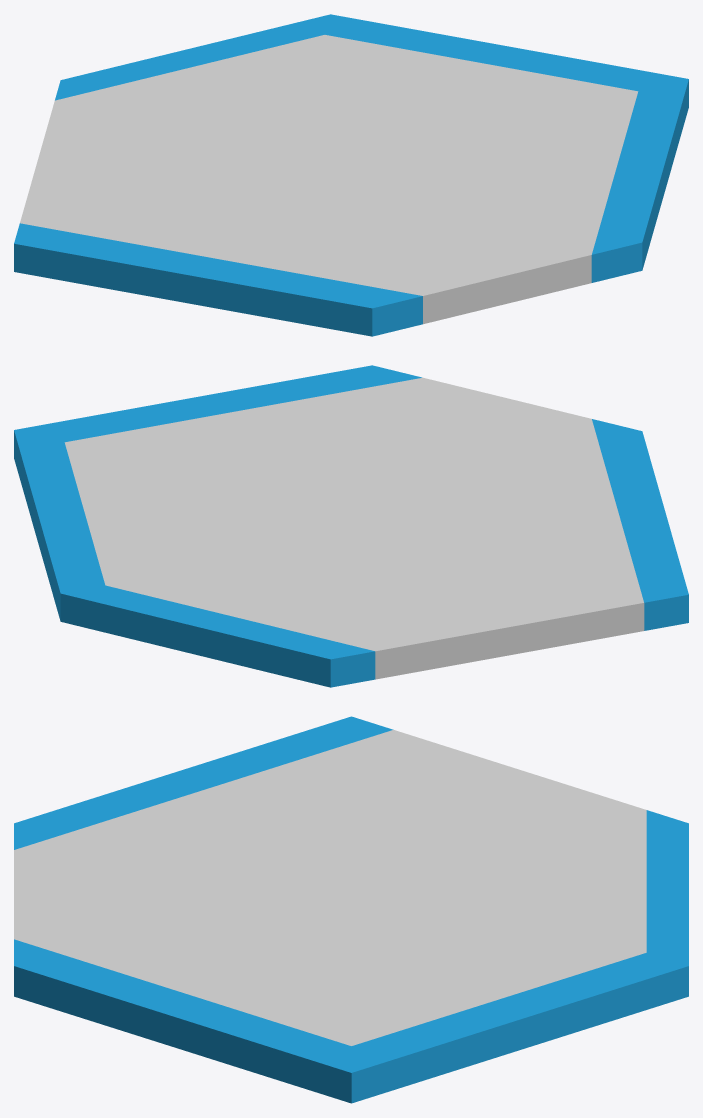
3 views of the same model, one above another, from view 1: azimuth 30°, elevation 25°; view 2: azimuth 150°, elevation 25°; view 3: azimuth 270°, elevation 25° (orthographic). The views are drawn at different scales.
Parts seen in each view (by area): view 1: Hexagon, SW, SE, NE, N; view 2: Hexagon, N, SW, NE, SE; view 3: Hexagon, SE, NE, SW, N.
Part boxes in pixels (x1,y1,x2,y2): Hexagon: (20,35,638,324); SW: (14,223,422,336); SE: (591,79,688,282); NE: (325,14,687,91); N: (55,14,330,100); Hexagon: (64,377,644,679); N: (60,585,375,687); SW: (592,419,688,630); NE: (14,430,104,620); SE: (15,365,421,442); Hexagon: (14,730,646,1045); SE: (14,939,351,1103); NE: (351,952,688,1103); SW: (14,716,393,849); N: (646,810,688,965).
Size of the model in its own units: 5 by 4 by 0.2.
